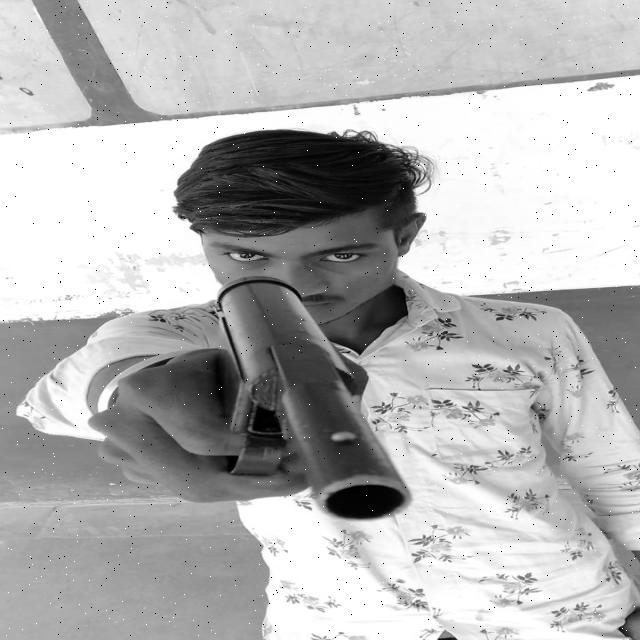gun: (208, 274, 432, 528)
